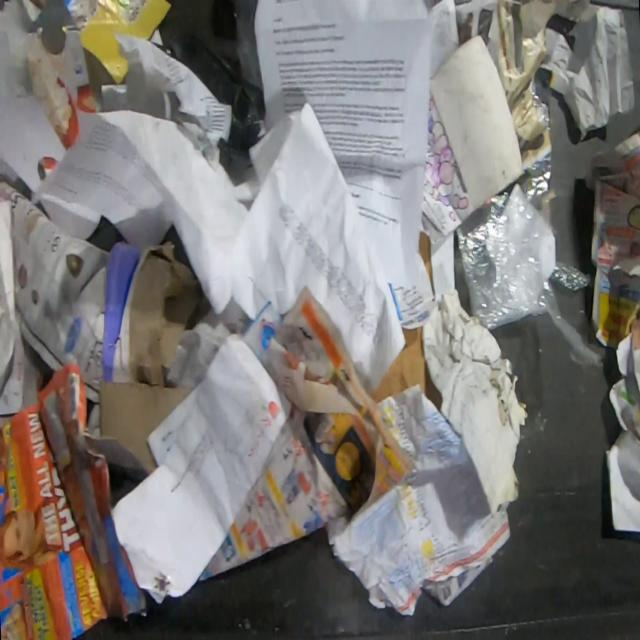cardboard: (82, 238, 204, 480), (0, 23, 100, 197), (370, 325, 428, 404), (609, 317, 639, 442), (419, 230, 433, 287)
soft_plastic: (455, 151, 594, 332), (152, 0, 266, 155)
